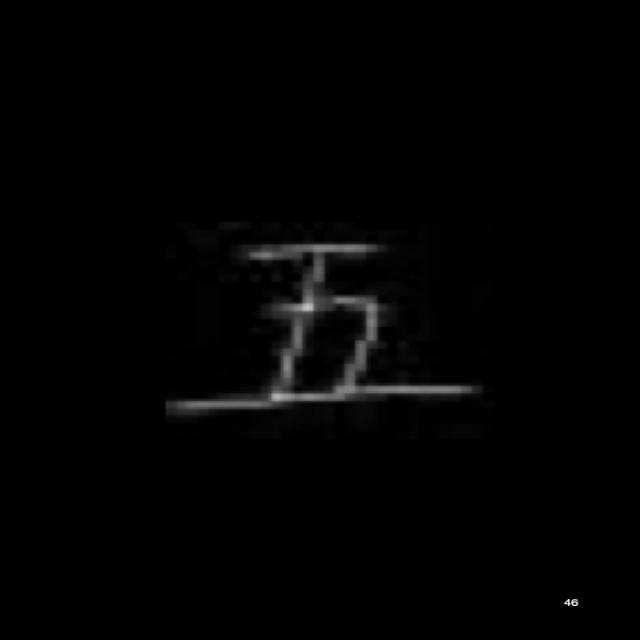5 -five-: (161, 228, 499, 428)
